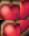heart: (0, 0, 20, 20), (20, 20, 29, 36)
